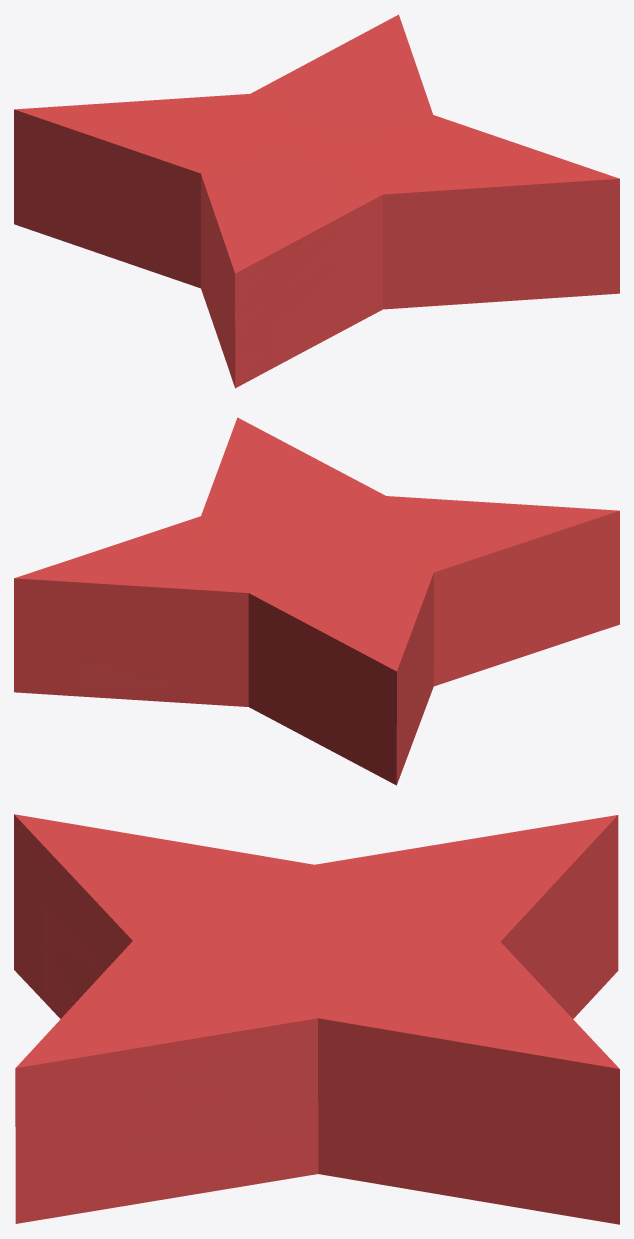
File: shuriken.dae
3 renders of one model, top to bottom at view 1: azimuth 30°, elevation 25°; view 2: azimuth 150°, elevation 25°; view 3: azimuth 270°, elevation 25°, orthographic. The views are drawn at different scales.
Parts seen in each view (by area): view 1: Star2; view 2: Star2; view 3: Star2.
Boxes of the visible parts, x1=… form: Star2: x1=14, y1=14, x2=619, y2=388; Star2: x1=14, y1=417, x2=619, y2=785; Star2: x1=14, y1=814, x2=619, y2=1224.
Bounding box in the file's own units: 0.07 × 0.07 × 0.02.
